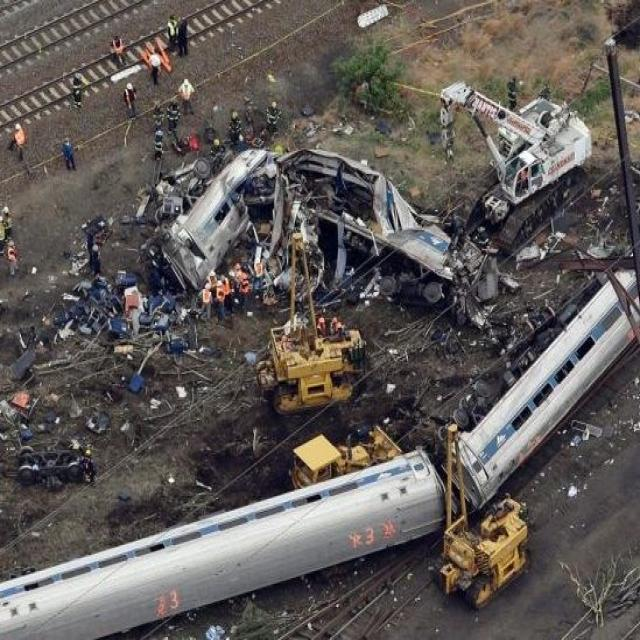traffic_incident: (0, 414, 427, 639), (156, 141, 475, 324), (456, 248, 635, 510)
